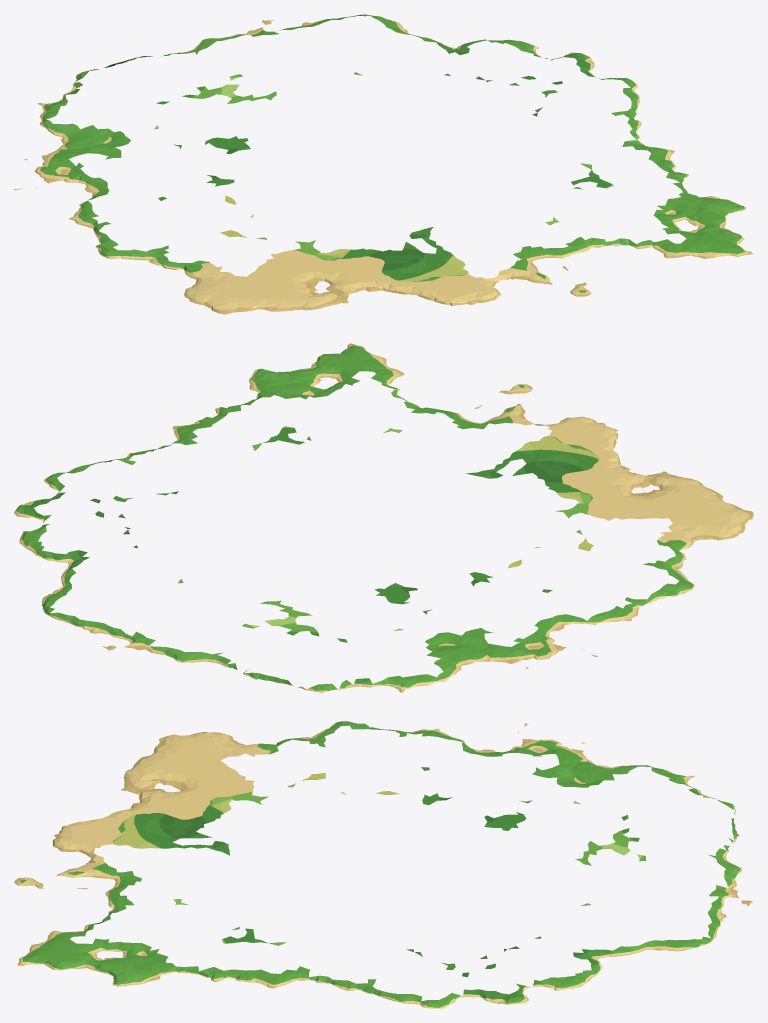
Rendered from Isl-rocky4-Ground.fbx.
3 views of the same model, one above another, from view 1: azimuth 30°, elevation 25°; view 2: azimuth 150°, elevation 25°; view 3: azimuth 270°, elevation 25° (orthographic). The views are drawn at different scales.
Parts seen in each view (by area): view 1: Isl-rocky4-Ground-c11, Isl-rocky4-Ground-c21, Isl-rocky4-Ground-c12, Isl-rocky4-Ground-c22; view 2: Isl-rocky4-Ground-c11, Isl-rocky4-Ground-c12, Isl-rocky4-Ground-c21, Isl-rocky4-Ground-c22; view 3: Isl-rocky4-Ground-c11, Isl-rocky4-Ground-c21, Isl-rocky4-Ground-c12, Isl-rocky4-Ground-c22.
Part boxes in pixels (x1,y1,x2,y2): Isl-rocky4-Ground-c11: (98, 214, 586, 314); Isl-rocky4-Ground-c21: (523, 118, 753, 295); Isl-rocky4-Ground-c12: (14, 37, 276, 249); Isl-rocky4-Ground-c22: (229, 14, 639, 119); Isl-rocky4-Ground-c11: (463, 384, 753, 594); Isl-rocky4-Ground-c12: (161, 559, 681, 692); Isl-rocky4-Ground-c21: (127, 343, 525, 456); Isl-rocky4-Ground-c22: (14, 455, 183, 654); Isl-rocky4-Ground-c11: (14, 721, 359, 882); Isl-rocky4-Ground-c21: (14, 878, 357, 990); Isl-rocky4-Ground-c12: (358, 723, 741, 880); Isl-rocky4-Ground-c22: (356, 878, 752, 1008).
Size of the model in its own units: 84.77 by 0.4898 by 92.59.
